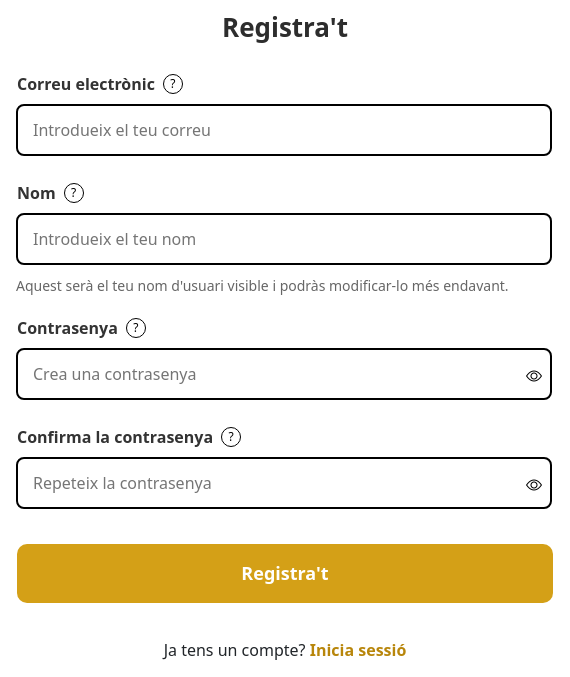
Test: Registre component › shows repeat password tooltip message when is clicked
This screenshot has width=570, height=677.
Click the button with class "tooltip-btn" next to "Confirma la contrasenya". click: click(231, 437)
box: [221,427,241,447]
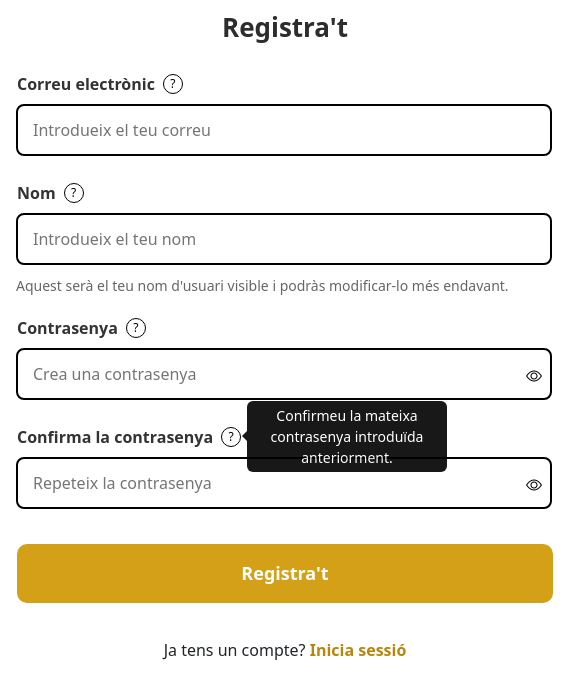
expect the text "Confirmeu la mateixa contrasenya introduïda anteriorment." is shown: met, box [247,401,447,472]
